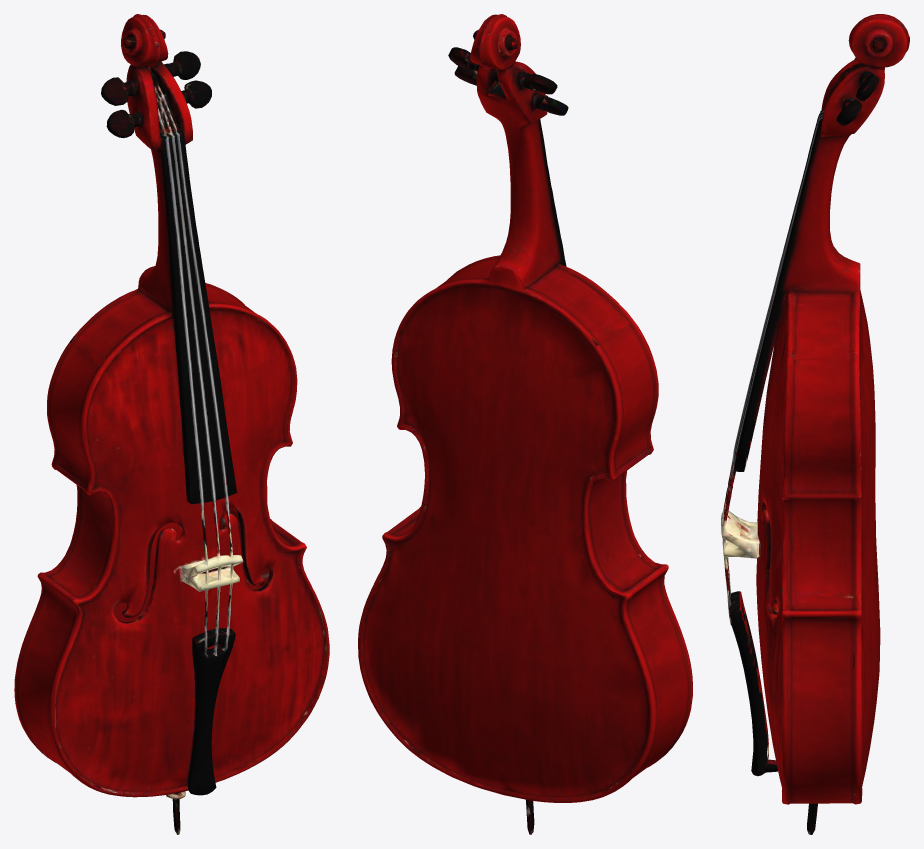
The model's file is cello.glb.
3 views of the same model, side by side, from view 1: azimuth 30°, elevation 25°; view 2: azimuth 150°, elevation 25°; view 3: azimuth 270°, elevation 25° (orthographic). The views are drawn at different scales.
Visible parts, largest first — view 1: mesh; view 2: mesh; view 3: mesh.
Boxes of the visible parts, x1=… form: mesh: x1=14, y1=14, x2=329, y2=834; mesh: x1=358, y1=14, x2=692, y2=834; mesh: x1=721, y1=14, x2=909, y2=834.
Size of the model in its own units: 0.3678 by 1 by 0.2087.
1 material, 1 textured.
